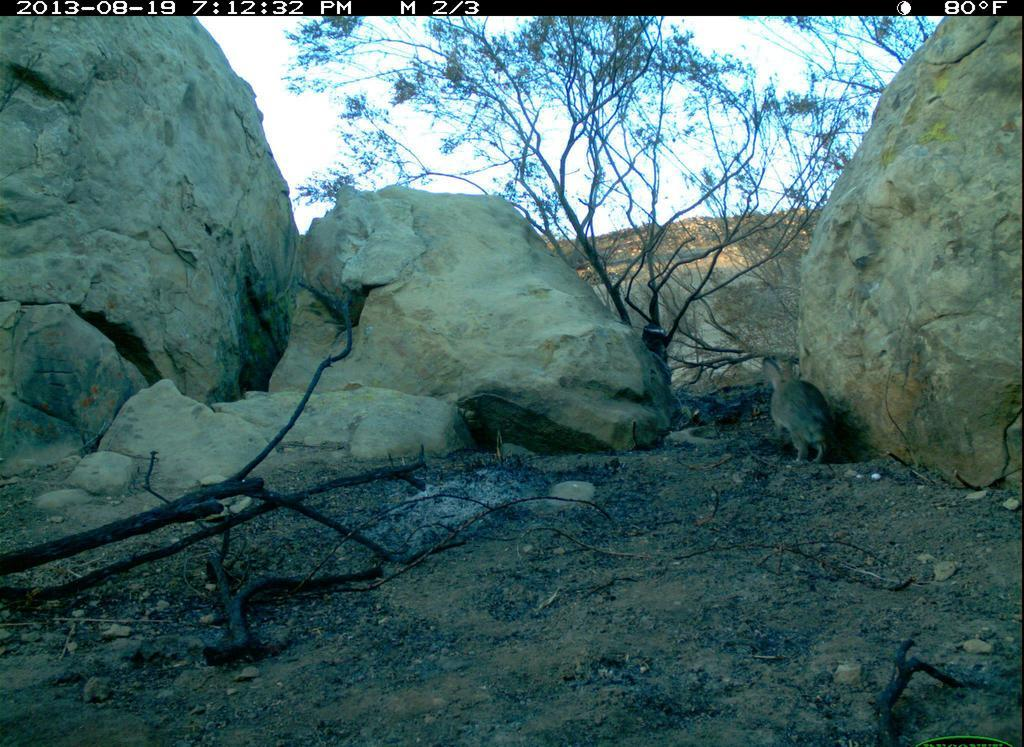rabbit: (761, 343, 847, 478)
